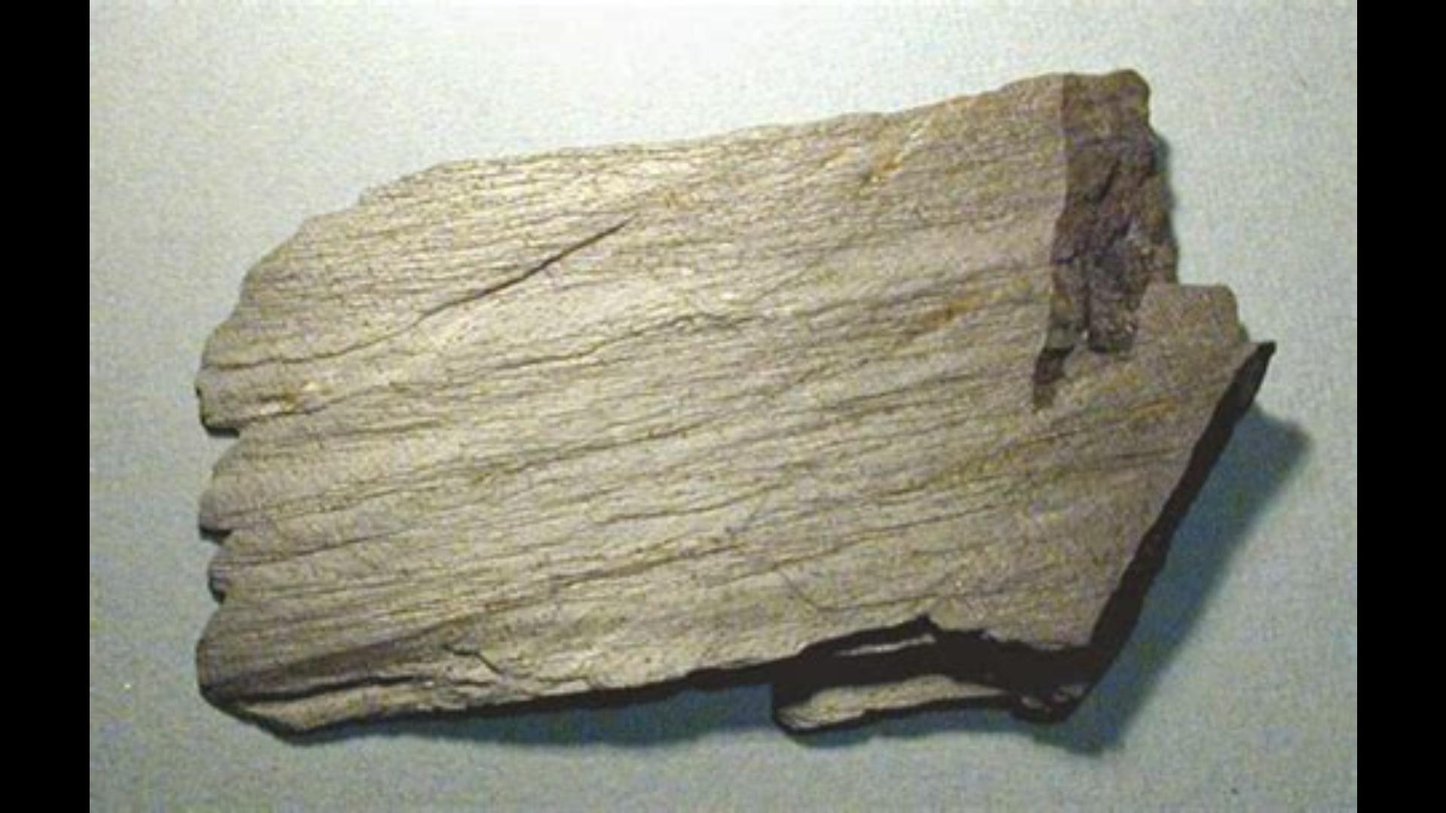rock: (199, 72, 1269, 730)
